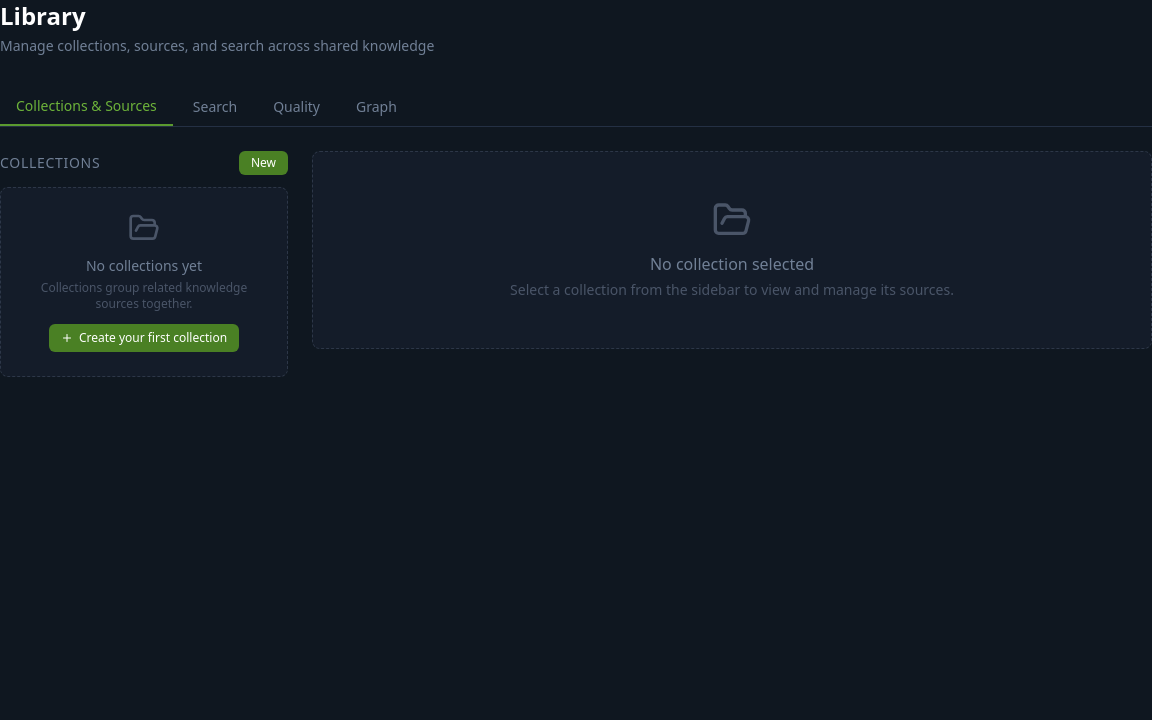
Test case: SharedKnowledgeQuality › displays source breakdown
Expected: the heading "Library" is shown, top-left (0, 0), bottom-right (86, 32)
Click the button "Quality". click: (297, 107)
box: top-left (257, 88), bottom-right (336, 126)
(page scrolled)
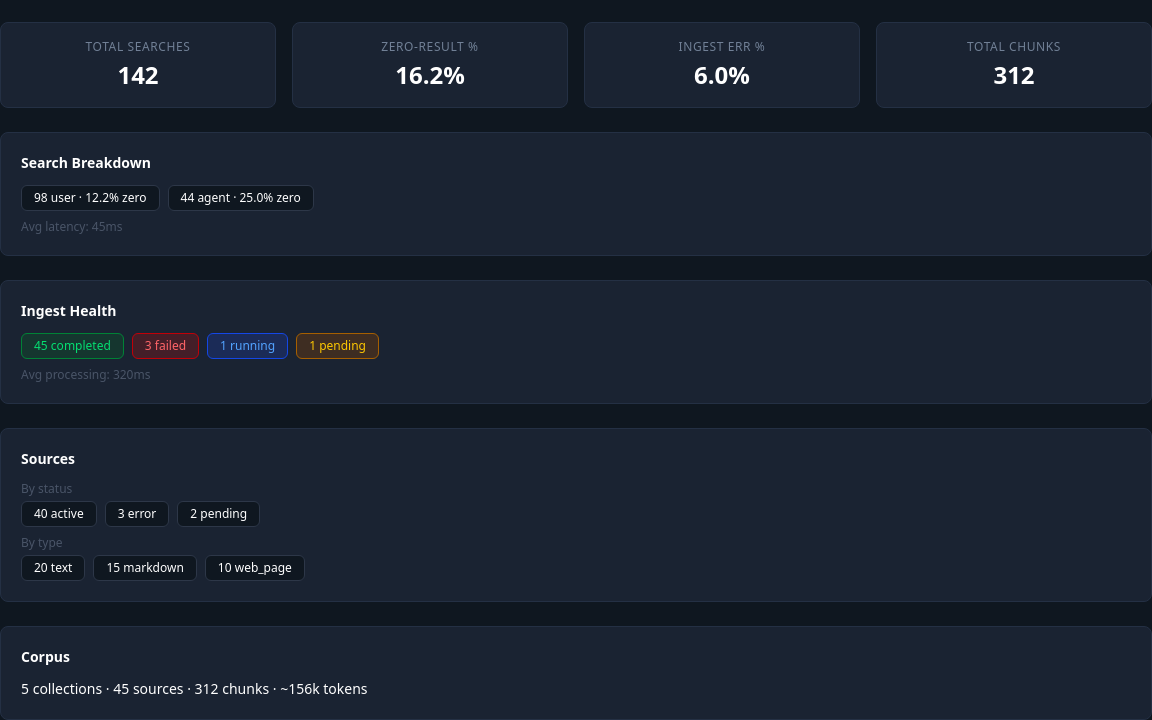
Expected: the text "By status" is shown, top-left (21, 480), bottom-right (72, 497)
Expected: the text "By type" is shown, top-left (21, 534), bottom-right (63, 551)
Expected: the text "40 active" is shown, top-left (21, 501), bottom-right (97, 527)
